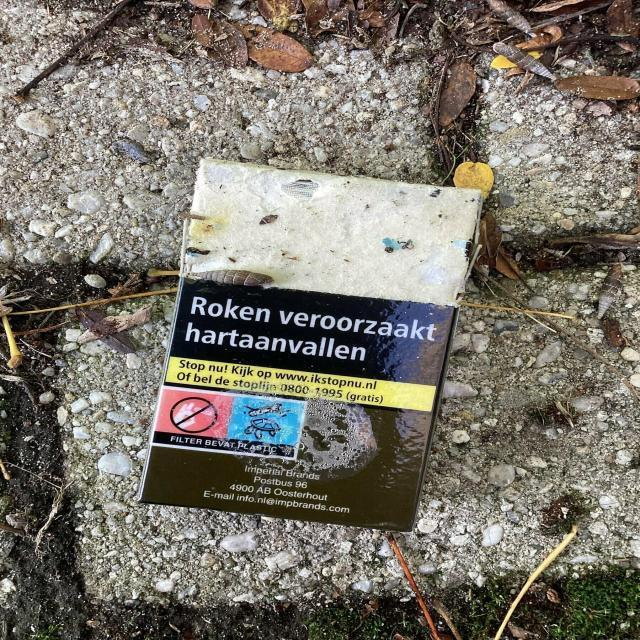Paper: (128, 152, 486, 536)
